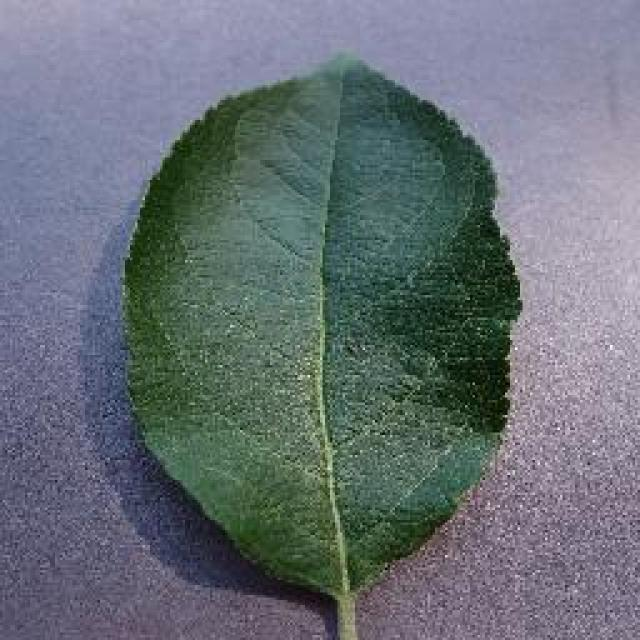apple healthy: (115, 50, 523, 635)
